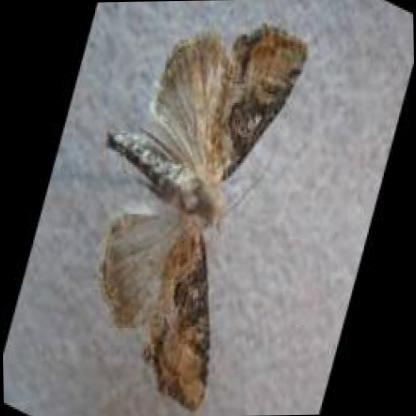Leaf Webber: (94, 26, 311, 406)
